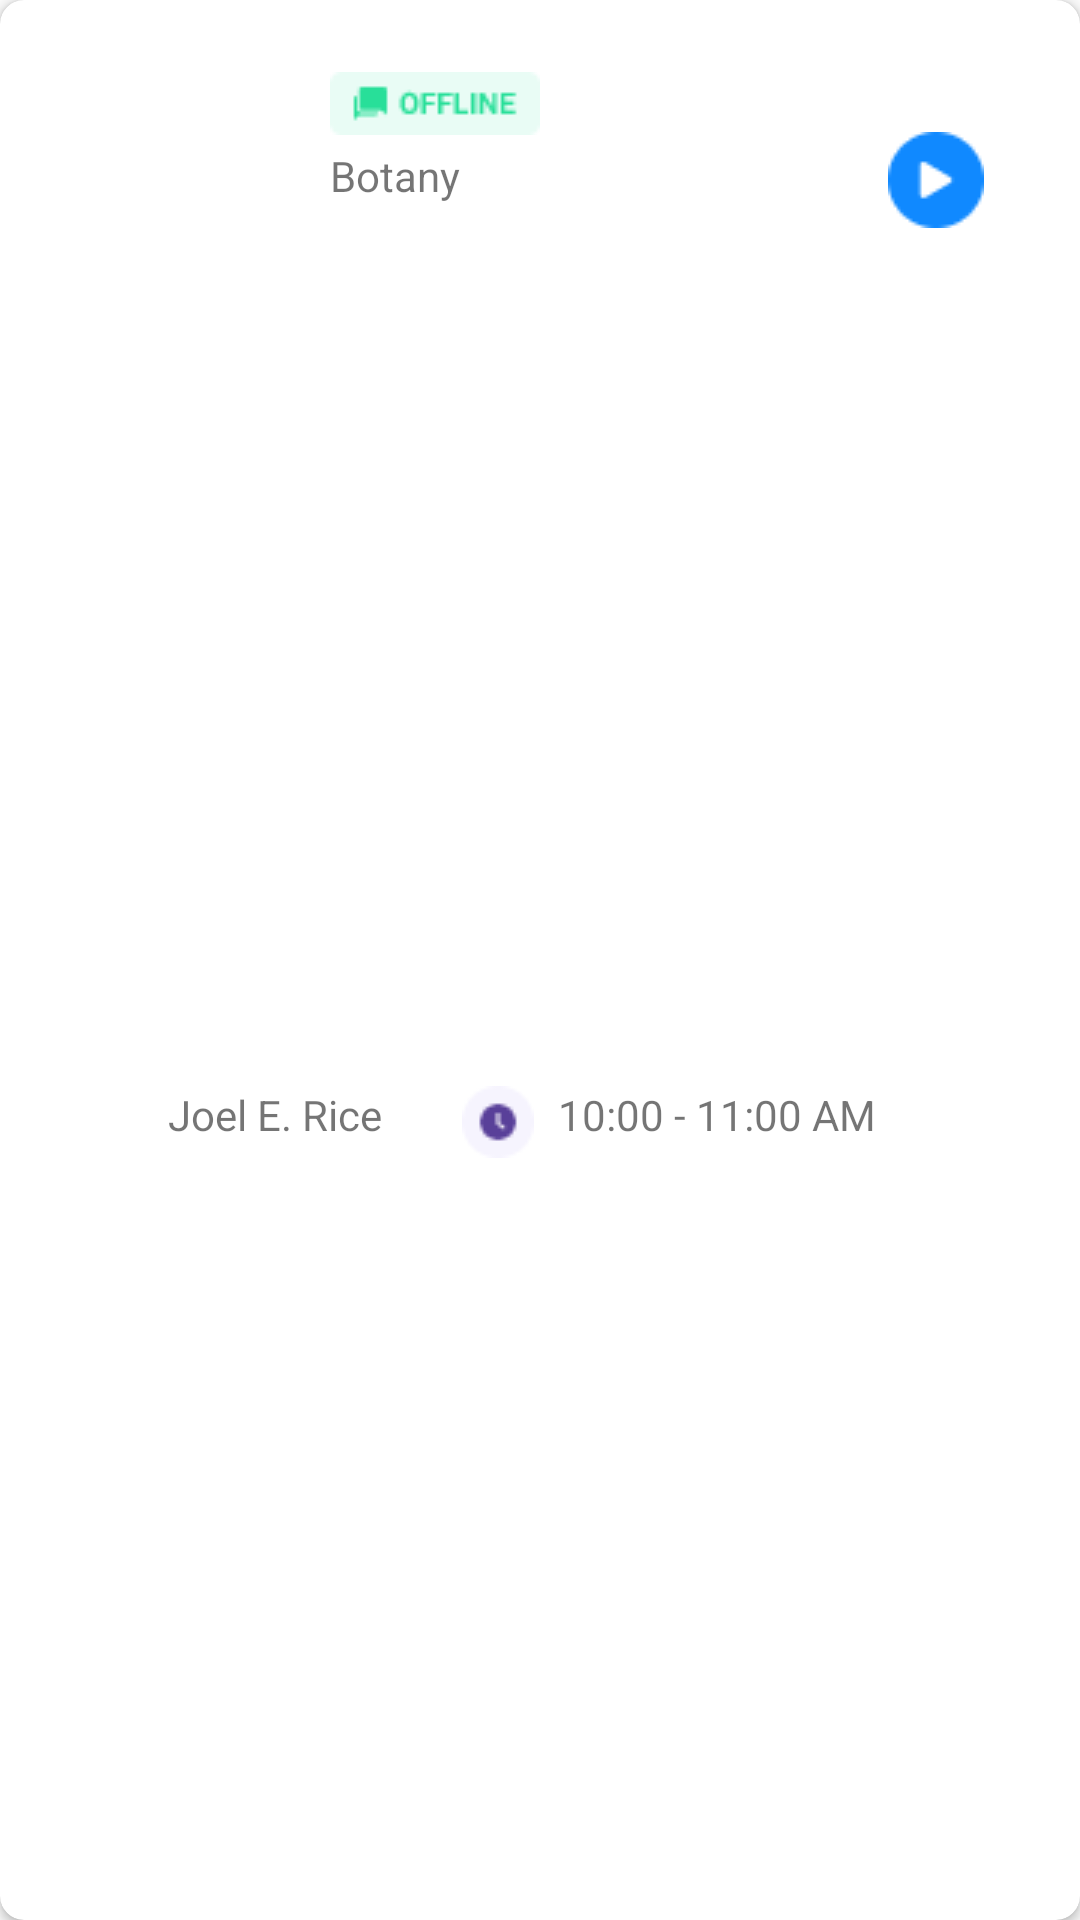

Screen size 1080px x 1920px. Icon name, then its box in pixels as (x1, y1, x2, y2):
time: (479, 1103, 517, 1141)
video: (888, 132, 984, 228)
